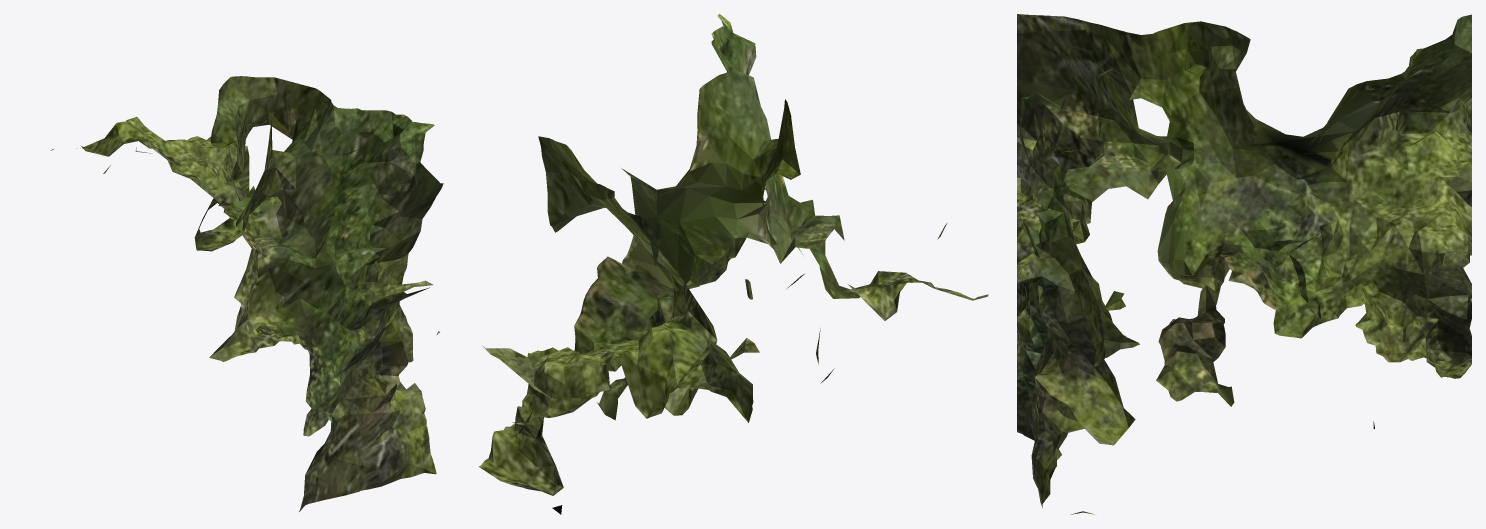
3 renders of one model, left to right at view 1: azimuth 30°, elevation 25°; view 2: azimuth 150°, elevation 25°; view 3: azimuth 270°, elevation 25°, orthographic. The views are drawn at different scales.
Size of the model in its own units: 4.04 by 5.9 by 5.9.
4 materials, 4 textured.
